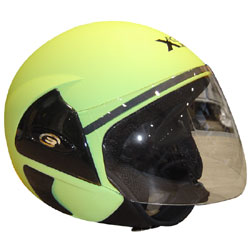helmet: (14, 28, 227, 215)
